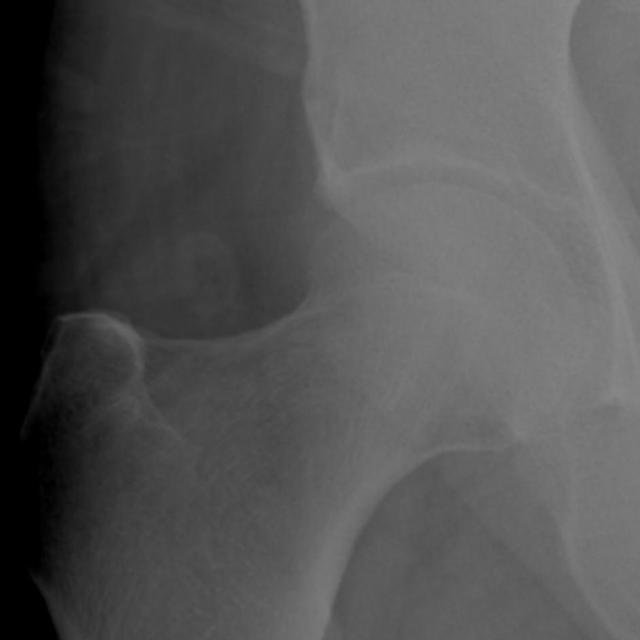Fitted_femural_head: (285, 182, 432, 285)
